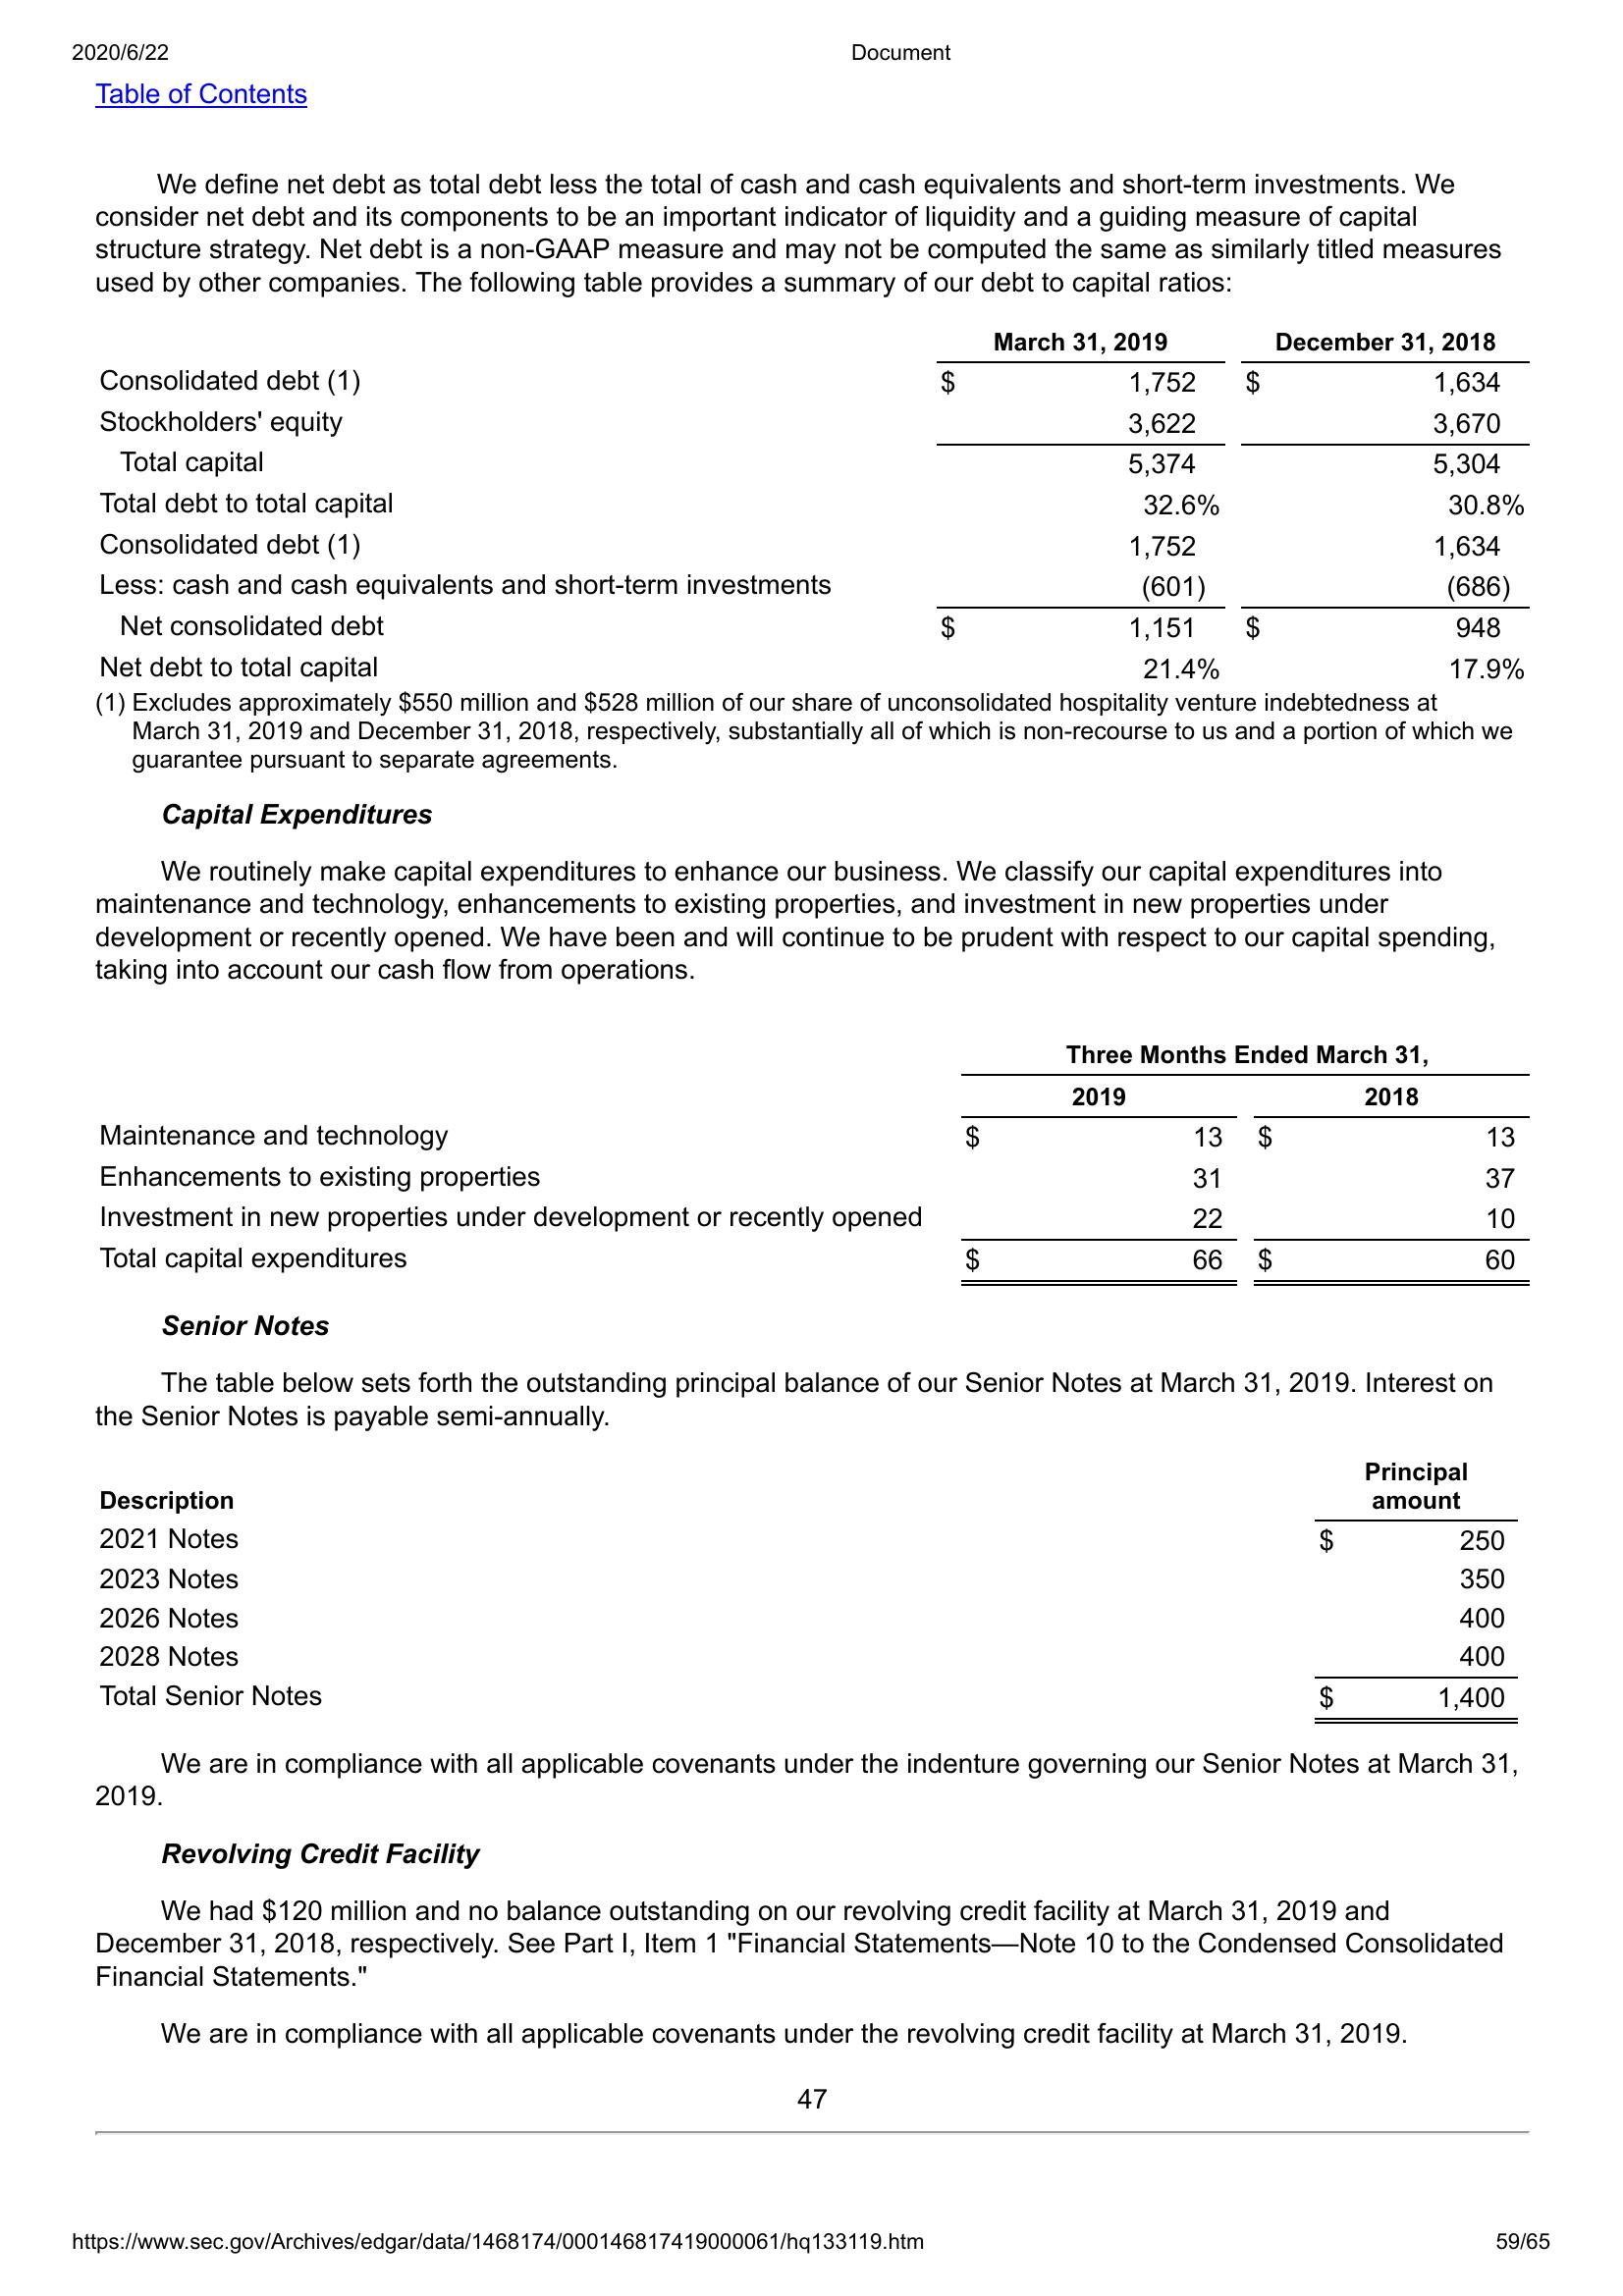table: (90, 321, 1540, 688), (91, 1032, 1528, 1299), (84, 1464, 1521, 1731)
